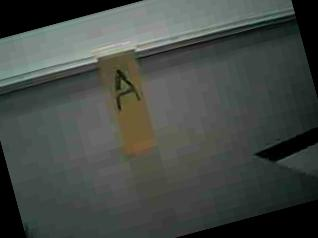Bottle A: (84, 34, 171, 168)
